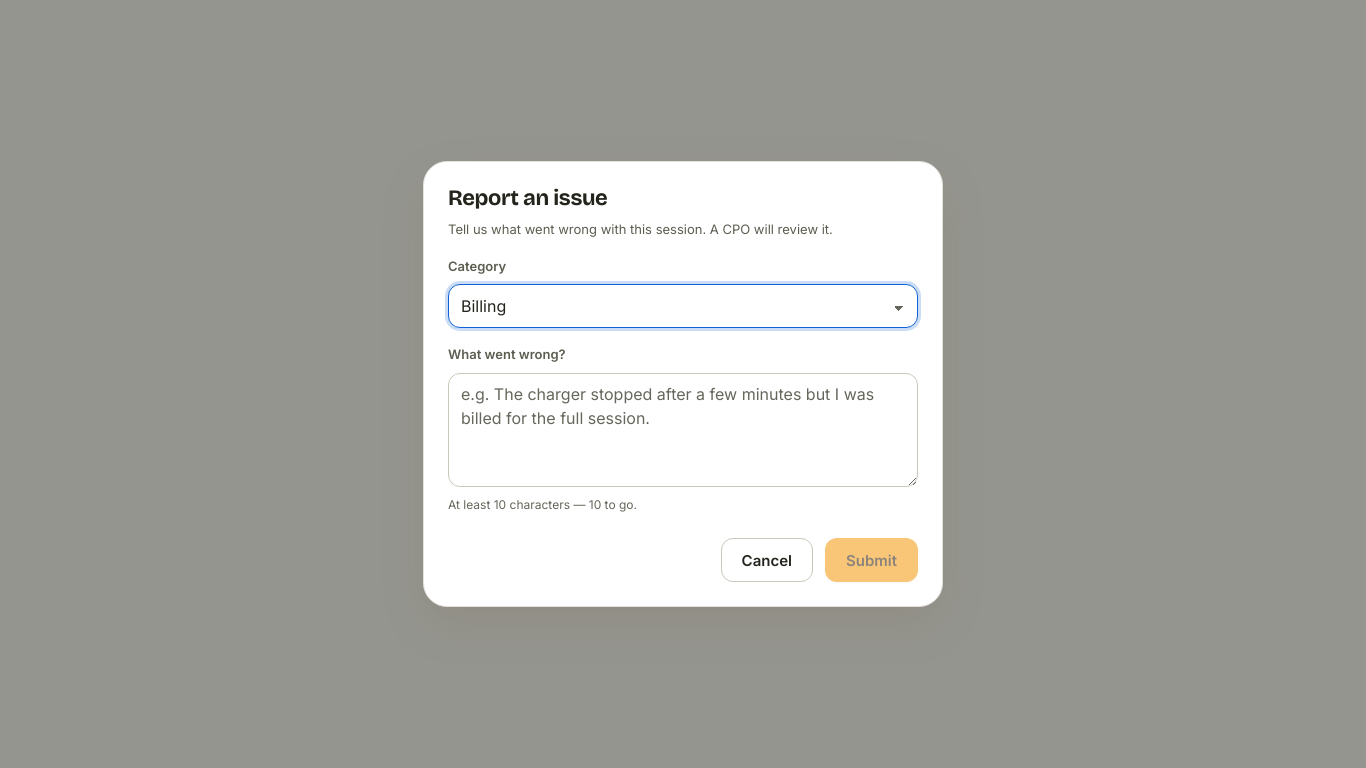
Test case: DisputeModal — open › renders a 409 (open dispute already exists) inline and keeps the modal open
In the text box labelled "What went wrong?": (683, 430) [448,373,918,487], type "The charger stopped early but I was billed for the full session."
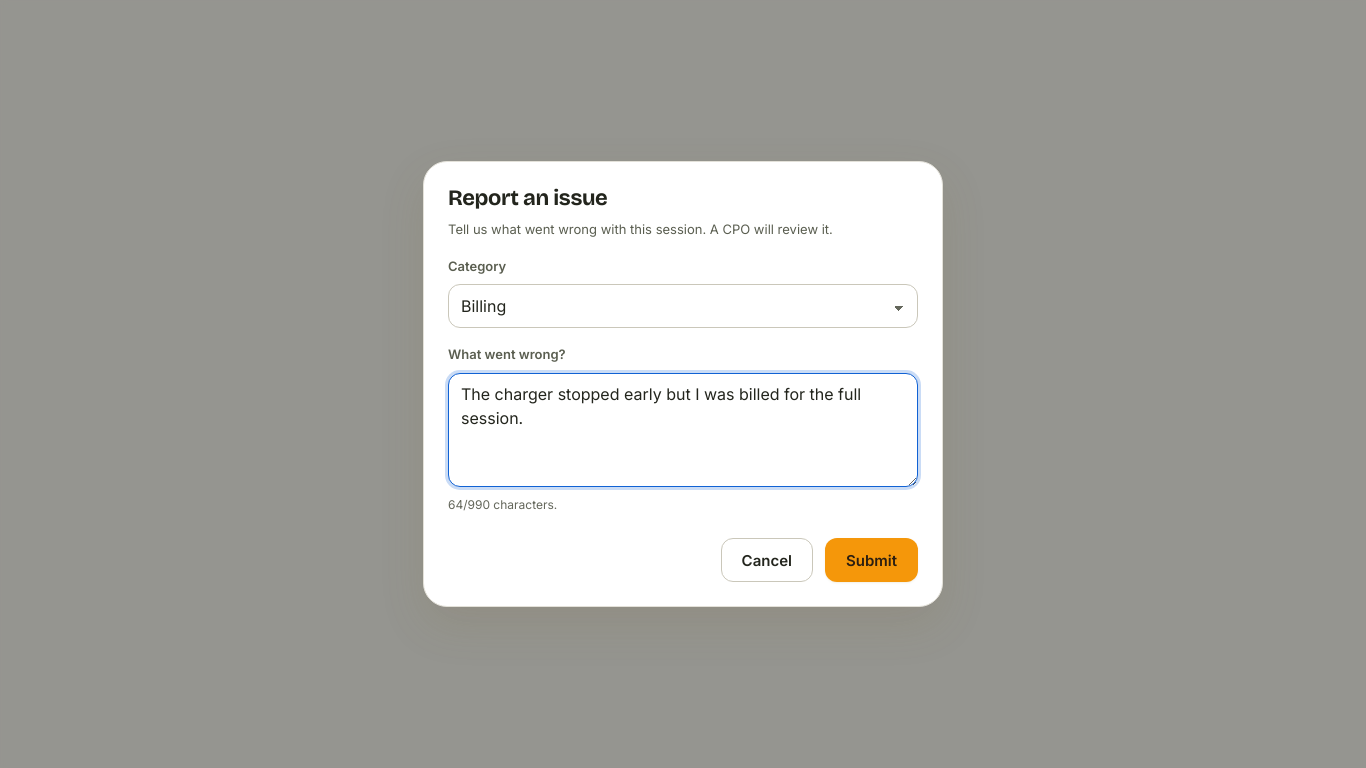
Click the button "Submit": (872, 560) [825,538,918,582]
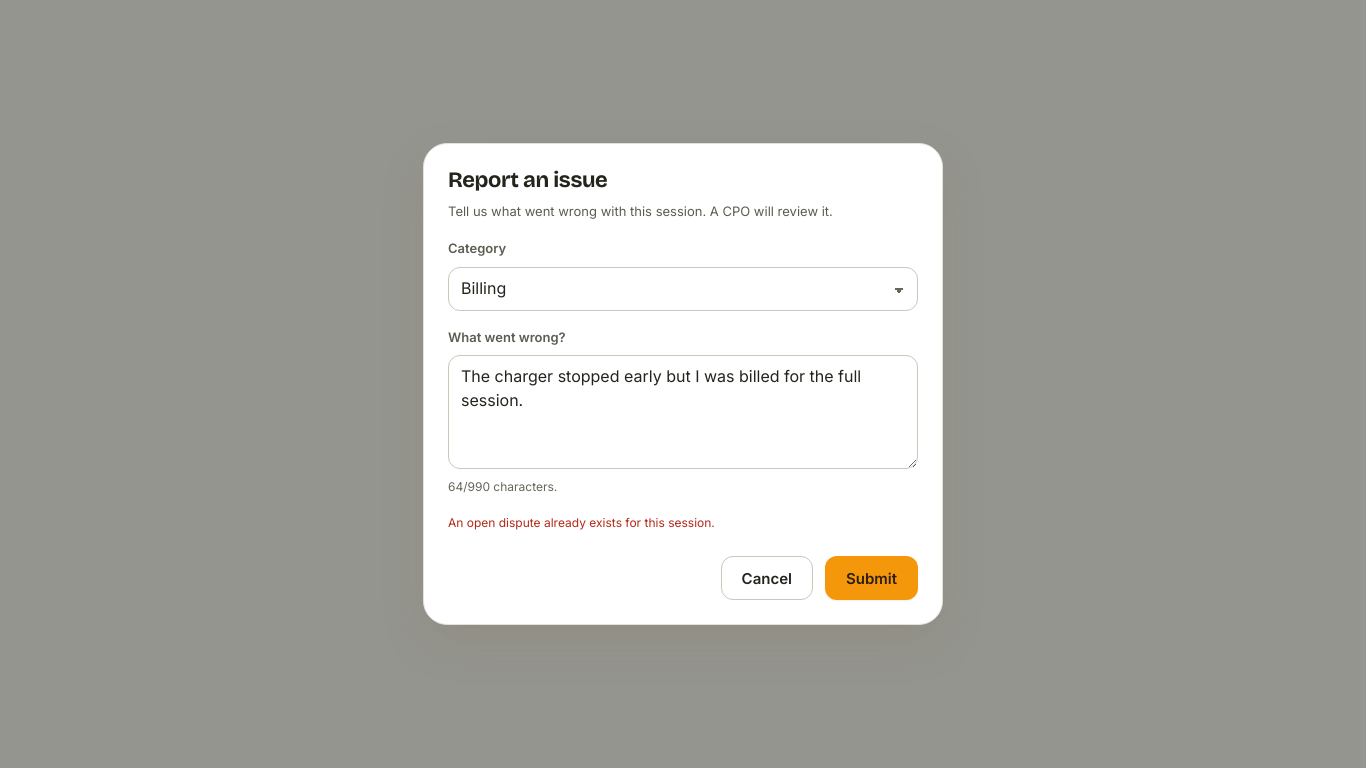
Expected: the button "Submit" is enabled, [825,556,918,600]
Expected: the text "An open dispute already exists for this session." is shown, [448,514,715,530]
